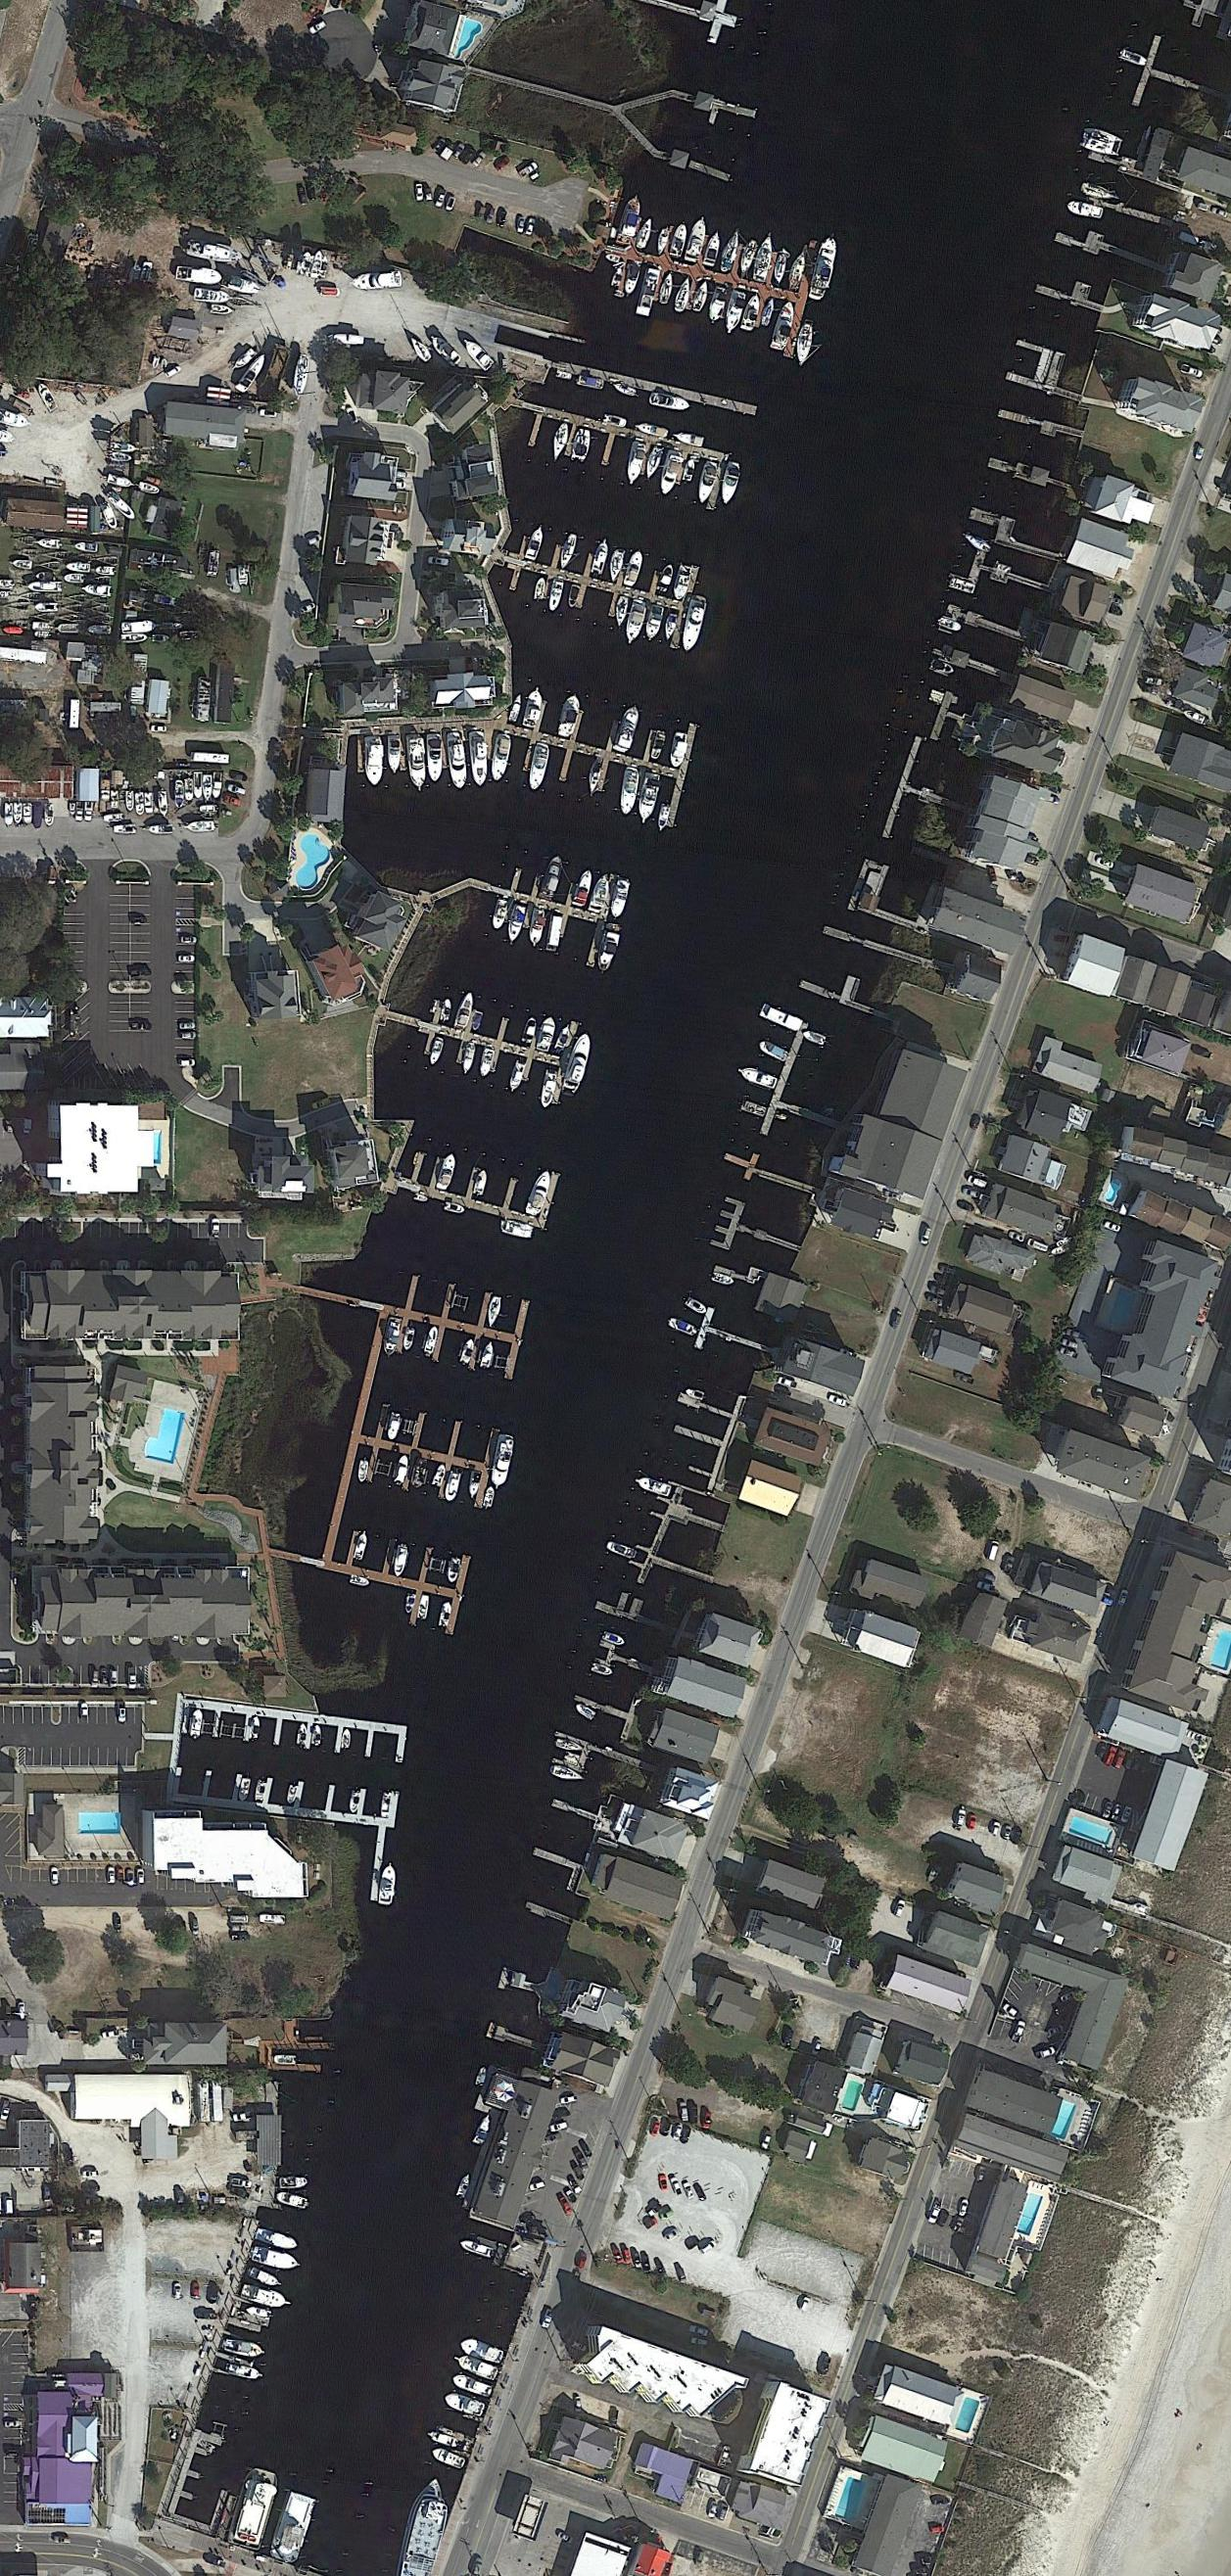harbor: (461, 39, 759, 186), (588, 189, 823, 359), (492, 677, 699, 827), (497, 521, 700, 650), (504, 397, 731, 512), (404, 981, 582, 1103), (452, 837, 620, 966), (317, 1524, 472, 1634), (351, 1398, 501, 1508), (381, 1270, 531, 1380), (203, 2218, 300, 2380), (399, 1134, 560, 1231), (171, 1765, 400, 1830), (182, 1698, 407, 1762), (643, 1372, 748, 1497), (549, 358, 758, 417), (1131, 34, 1230, 142), (591, 1573, 707, 1657), (355, 720, 497, 772), (543, 1727, 652, 1793), (949, 540, 1052, 610), (847, 857, 939, 934), (623, 1480, 687, 1584), (693, 1305, 784, 1378), (758, 1020, 811, 1138), (1054, 220, 1162, 277), (719, 1143, 820, 1203), (966, 506, 1070, 564), (799, 960, 893, 1022), (1005, 338, 1094, 402), (166, 2428, 225, 2526), (881, 734, 924, 841), (824, 924, 923, 966), (1088, 147, 1174, 190), (986, 453, 1071, 494), (998, 408, 1084, 445), (1035, 271, 1108, 315), (1085, 194, 1172, 230), (945, 603, 1023, 643), (931, 642, 1007, 683), (524, 1846, 585, 1895), (930, 690, 977, 750), (592, 1639, 656, 1683), (486, 2021, 550, 2059), (709, 1195, 747, 1251), (264, 2040, 334, 2071), (713, 1254, 770, 1289), (497, 1965, 548, 2000), (573, 1693, 631, 1722), (524, 1899, 575, 1928), (369, 1826, 388, 1901), (550, 1797, 598, 1824), (470, 2235, 508, 2267)
ship: (805, 234, 842, 305), (560, 1032, 593, 1098), (675, 593, 710, 655), (186, 236, 246, 266), (487, 1433, 518, 1490), (240, 2281, 291, 2314), (523, 1167, 554, 1219), (234, 350, 269, 396), (634, 772, 663, 824), (458, 2334, 506, 2365), (593, 922, 622, 975), (251, 2245, 302, 2274), (620, 597, 649, 647), (460, 333, 497, 373), (770, 300, 797, 352), (554, 694, 585, 741), (103, 487, 141, 524), (525, 741, 553, 791), (615, 195, 642, 246), (736, 1061, 781, 1093), (612, 707, 641, 754), (487, 733, 514, 783), (538, 854, 566, 902), (467, 731, 491, 789), (446, 731, 468, 791), (691, 459, 720, 506), (655, 450, 684, 497), (615, 768, 642, 816), (406, 734, 428, 794), (454, 2354, 499, 2382), (428, 331, 463, 367), (722, 289, 748, 336), (217, 271, 262, 299), (443, 2390, 486, 2418), (175, 263, 225, 288), (684, 217, 709, 265), (623, 441, 649, 487), (451, 2371, 495, 2399), (351, 269, 405, 291), (254, 2226, 300, 2252), (520, 686, 545, 732), (717, 461, 742, 506), (786, 246, 811, 292), (752, 235, 775, 284), (1080, 179, 1120, 207), (587, 872, 612, 914), (534, 1013, 559, 1055), (719, 230, 742, 275), (379, 1316, 403, 1359), (547, 422, 572, 465), (363, 735, 383, 788), (1081, 131, 1120, 158), (223, 2337, 268, 2360), (583, 757, 607, 798), (649, 392, 692, 414), (435, 1151, 459, 1191), (634, 1474, 673, 1498), (642, 604, 667, 643), (248, 2267, 285, 2292), (571, 867, 594, 908), (706, 286, 730, 326), (291, 352, 310, 400), (376, 1862, 397, 1907), (739, 293, 762, 334), (550, 1761, 587, 1787), (622, 550, 645, 589), (32, 380, 60, 413), (504, 904, 527, 944), (526, 908, 548, 948), (671, 277, 694, 315), (538, 1067, 559, 1108), (193, 286, 234, 307), (1065, 199, 1105, 221), (608, 879, 630, 919), (431, 2446, 466, 2470), (228, 345, 259, 373), (523, 526, 546, 562), (454, 992, 476, 1031), (556, 534, 579, 571), (671, 565, 693, 602), (795, 322, 814, 367), (426, 733, 443, 783), (406, 333, 433, 364), (608, 594, 632, 630), (545, 578, 567, 616), (668, 732, 689, 771), (273, 2188, 309, 2211), (689, 279, 712, 315), (225, 2362, 264, 2382), (737, 239, 757, 280), (669, 221, 690, 258), (621, 261, 642, 299), (572, 426, 593, 463), (590, 540, 610, 579), (507, 1057, 529, 1093), (642, 445, 664, 481), (634, 215, 655, 251), (472, 2113, 494, 2148), (460, 2237, 494, 2260), (703, 231, 724, 267), (427, 2429, 463, 2450), (757, 1039, 788, 1062), (606, 549, 627, 585), (443, 1469, 464, 1502), (669, 1316, 699, 1339), (633, 420, 669, 440), (392, 1453, 412, 1487), (965, 530, 993, 554), (657, 271, 677, 306), (554, 1735, 585, 1757), (351, 1529, 372, 1561), (502, 1220, 537, 1240), (490, 899, 510, 931), (772, 249, 790, 284), (99, 500, 120, 531), (927, 656, 958, 678), (459, 1042, 479, 1075), (673, 430, 706, 449), (476, 1047, 497, 1078), (648, 728, 667, 762), (607, 1541, 640, 1560), (486, 1295, 503, 1330), (520, 1015, 539, 1048), (422, 1324, 440, 1357), (947, 573, 975, 593), (81, 582, 114, 599), (428, 1036, 447, 1066), (657, 563, 676, 593), (393, 1546, 409, 1579), (506, 693, 524, 725), (387, 734, 401, 774), (466, 1471, 485, 1500), (611, 381, 640, 399), (121, 620, 158, 634), (662, 614, 681, 642), (683, 1295, 708, 1316), (655, 804, 673, 833), (1118, 49, 1149, 66), (253, 1778, 269, 1808), (574, 1701, 598, 1721), (472, 1168, 490, 1196), (27, 579, 64, 592), (458, 1338, 476, 1366), (386, 1414, 403, 1441), (108, 472, 135, 490), (564, 584, 582, 611), (577, 374, 604, 392), (437, 1601, 454, 1628), (709, 1270, 736, 1288), (936, 617, 964, 634), (189, 1708, 205, 1738), (430, 1464, 449, 1489), (654, 228, 671, 257), (33, 536, 63, 551), (761, 298, 777, 327), (446, 1558, 462, 1585), (802, 1028, 827, 1047), (380, 1790, 396, 1818), (590, 1662, 616, 1678), (609, 261, 625, 289), (309, 248, 323, 279), (456, 2173, 472, 2200), (278, 2176, 309, 2189), (1182, 708, 1207, 725), (601, 1631, 626, 1648), (481, 1341, 496, 1369), (184, 820, 215, 833), (137, 481, 161, 497), (245, 2305, 271, 2319), (66, 560, 92, 575), (119, 632, 150, 645), (417, 1593, 431, 1620), (238, 1775, 252, 1802), (173, 780, 186, 809), (402, 1328, 416, 1352), (248, 1717, 262, 1742), (683, 1385, 707, 1400), (294, 1721, 308, 1746), (350, 1572, 371, 1589), (349, 1790, 362, 1815), (158, 789, 170, 817), (210, 303, 235, 316), (110, 442, 137, 454), (468, 1009, 484, 1031), (300, 250, 312, 276), (534, 577, 547, 601), (683, 459, 696, 484), (309, 1723, 323, 1748), (144, 823, 172, 835), (212, 771, 223, 799), (318, 255, 331, 280), (272, 2054, 298, 2067), (42, 804, 56, 827), (439, 999, 452, 1022), (443, 1202, 466, 1216), (3, 802, 16, 826), (603, 413, 628, 426), (339, 1726, 352, 1751), (403, 1591, 417, 1614), (356, 1460, 369, 1483), (484, 1485, 497, 1509), (145, 792, 158, 816), (13, 802, 24, 826), (154, 592, 176, 605), (202, 776, 213, 803), (259, 1914, 285, 1925), (74, 541, 98, 553), (229, 2178, 253, 2189), (87, 627, 113, 637), (228, 783, 248, 797), (110, 452, 132, 464), (56, 624, 80, 634), (286, 1786, 300, 1804), (134, 792, 145, 816), (35, 601, 59, 612), (101, 814, 124, 824), (12, 559, 33, 571), (111, 824, 136, 834), (194, 773, 203, 800), (95, 565, 116, 577), (23, 803, 33, 824), (124, 790, 134, 814), (603, 253, 623, 263), (185, 778, 194, 802), (224, 796, 242, 807), (150, 634, 169, 643), (34, 632, 53, 638)
